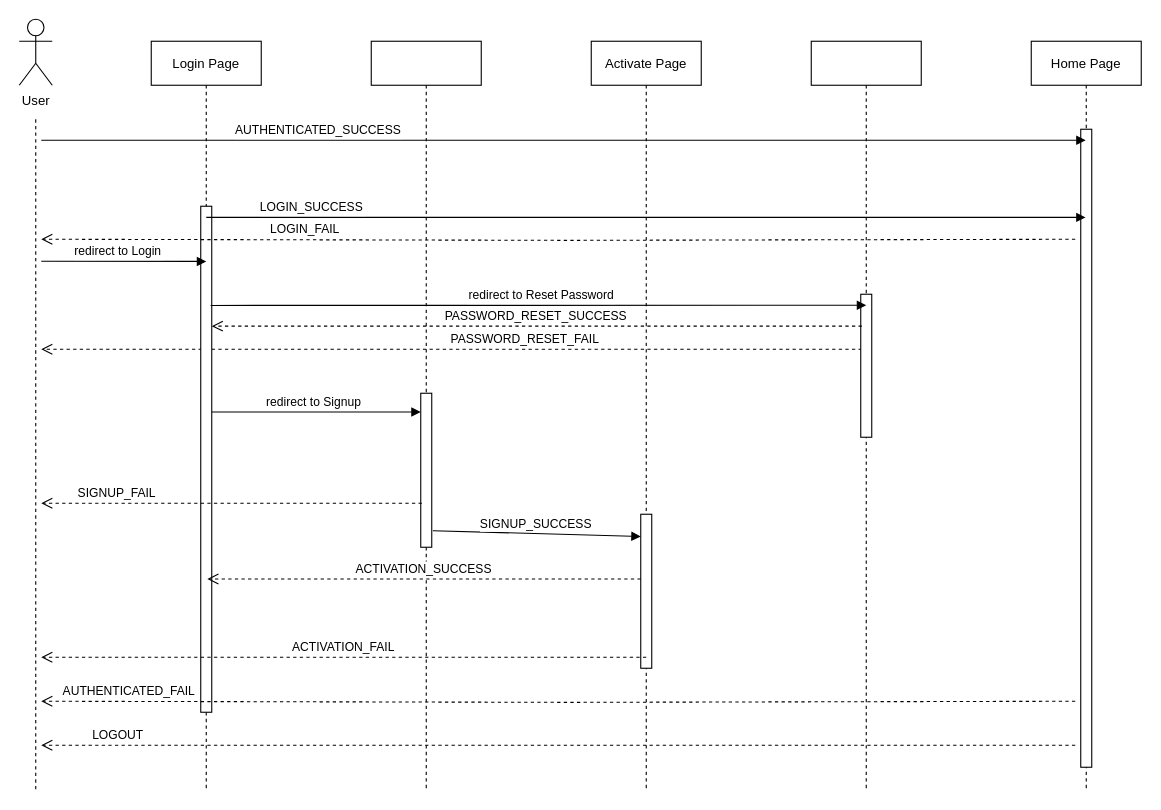
The diagram is 1161 pixels wide and 810 high, and some of its shapes have lost their labels. Here are the shapes that lost their labels. From the top down, the centre of each, then its label:
At point (425, 414): "Signup Page".
At point (865, 414): "Reset Password Page".
